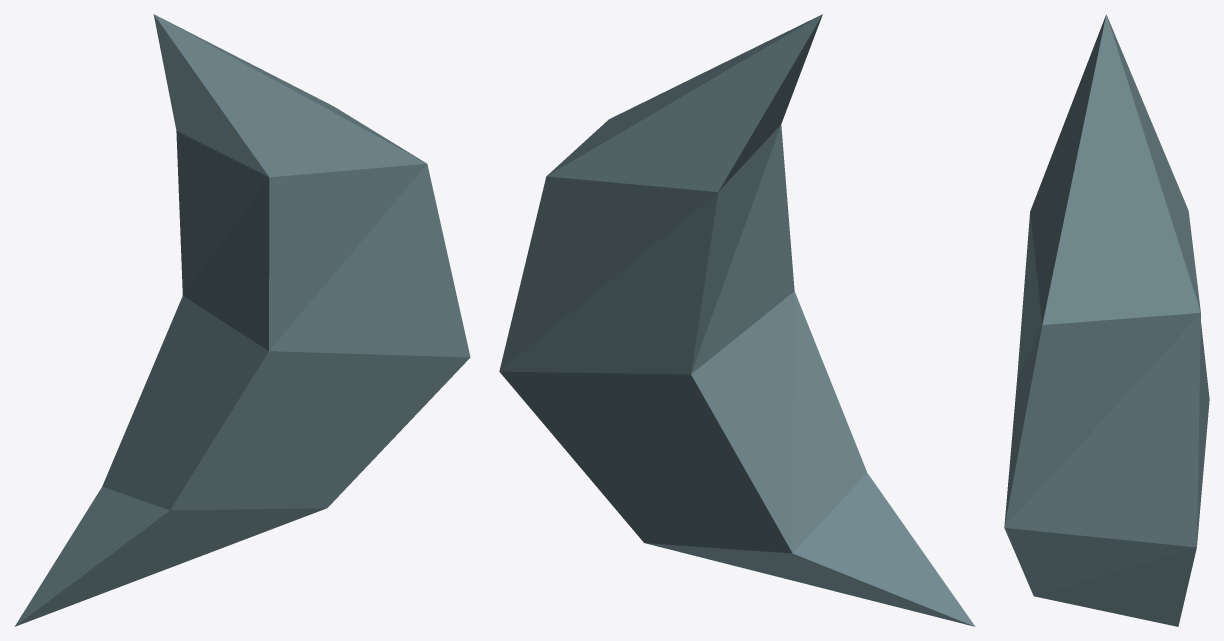
File: moon.obj
The picture shows the model from 3 angles, left to right: view 1: azimuth 30°, elevation 25°; view 2: azimuth 150°, elevation 25°; view 3: azimuth 270°, elevation 25°; orthographic projection. The views are drawn at different scales.
Size of the model in its own units: 6.72 by 8.78 by 2.79.
